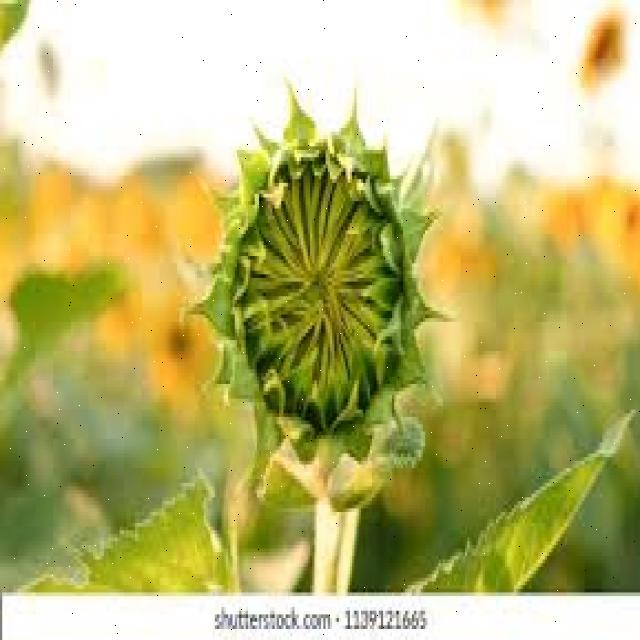Unbloomed: (195, 99, 456, 518)
